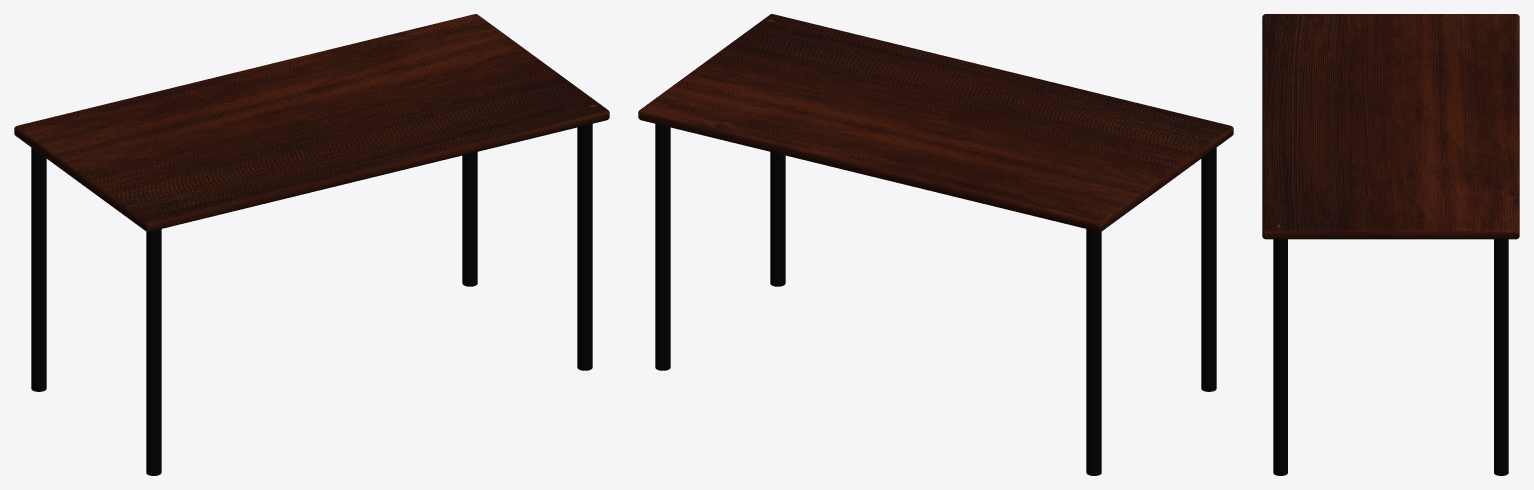
The model's file is state-default.glb.
3 views of the same model, side by side, from view 1: azimuth 30°, elevation 25°; view 2: azimuth 150°, elevation 25°; view 3: azimuth 270°, elevation 25° (orthographic). The views are drawn at different scales.
Parts seen in each view (by area): view 1: assetPrim:bc6db6f4cbd0a-19c732ef8c8:desk-top, assetPrim:bc6db6f4cbd0a-19c732ef8c8:desk-leg-fr, assetPrim:bc6db6f4cbd0a-19c732ef8c8:desk-leg-fl, assetPrim:bc6db6f4cbd0a-19c732ef8c8:desk-leg-bl, assetPrim:bc6db6f4cbd0a-19c732ef8c8:desk-leg-br; view 2: assetPrim:bc6db6f4cbd0a-19c732ef8c8:desk-top, assetPrim:bc6db6f4cbd0a-19c732ef8c8:desk-leg-br, assetPrim:bc6db6f4cbd0a-19c732ef8c8:desk-leg-bl, assetPrim:bc6db6f4cbd0a-19c732ef8c8:desk-leg-fl, assetPrim:bc6db6f4cbd0a-19c732ef8c8:desk-leg-fr; view 3: assetPrim:bc6db6f4cbd0a-19c732ef8c8:desk-top, assetPrim:bc6db6f4cbd0a-19c732ef8c8:desk-leg-fr, assetPrim:bc6db6f4cbd0a-19c732ef8c8:desk-leg-br.
Part boxes in pixels (box(x1,y1,x2,y2)): assetPrim:bc6db6f4cbd0a-19c732ef8c8:desk-top: box(14, 14, 609, 231); assetPrim:bc6db6f4cbd0a-19c732ef8c8:desk-leg-fr: box(577, 124, 592, 370); assetPrim:bc6db6f4cbd0a-19c732ef8c8:desk-leg-fl: box(146, 229, 161, 475); assetPrim:bc6db6f4cbd0a-19c732ef8c8:desk-leg-bl: box(31, 147, 46, 391); assetPrim:bc6db6f4cbd0a-19c732ef8c8:desk-leg-br: box(462, 152, 477, 286); assetPrim:bc6db6f4cbd0a-19c732ef8c8:desk-top: box(638, 14, 1233, 231); assetPrim:bc6db6f4cbd0a-19c732ef8c8:desk-leg-br: box(655, 124, 670, 370); assetPrim:bc6db6f4cbd0a-19c732ef8c8:desk-leg-bl: box(1086, 229, 1101, 475); assetPrim:bc6db6f4cbd0a-19c732ef8c8:desk-leg-fl: box(1201, 147, 1216, 391); assetPrim:bc6db6f4cbd0a-19c732ef8c8:desk-leg-fr: box(770, 152, 785, 286); assetPrim:bc6db6f4cbd0a-19c732ef8c8:desk-top: box(1262, 14, 1519, 239); assetPrim:bc6db6f4cbd0a-19c732ef8c8:desk-leg-fr: box(1273, 239, 1287, 475); assetPrim:bc6db6f4cbd0a-19c732ef8c8:desk-leg-br: box(1494, 239, 1508, 475).
Size of the model in its own units: 1.4 by 0.75 by 0.7.
Materials: 5 (1 with a texture image).
